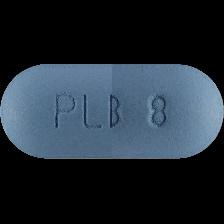61919-383: (0, 0, 224, 224)
